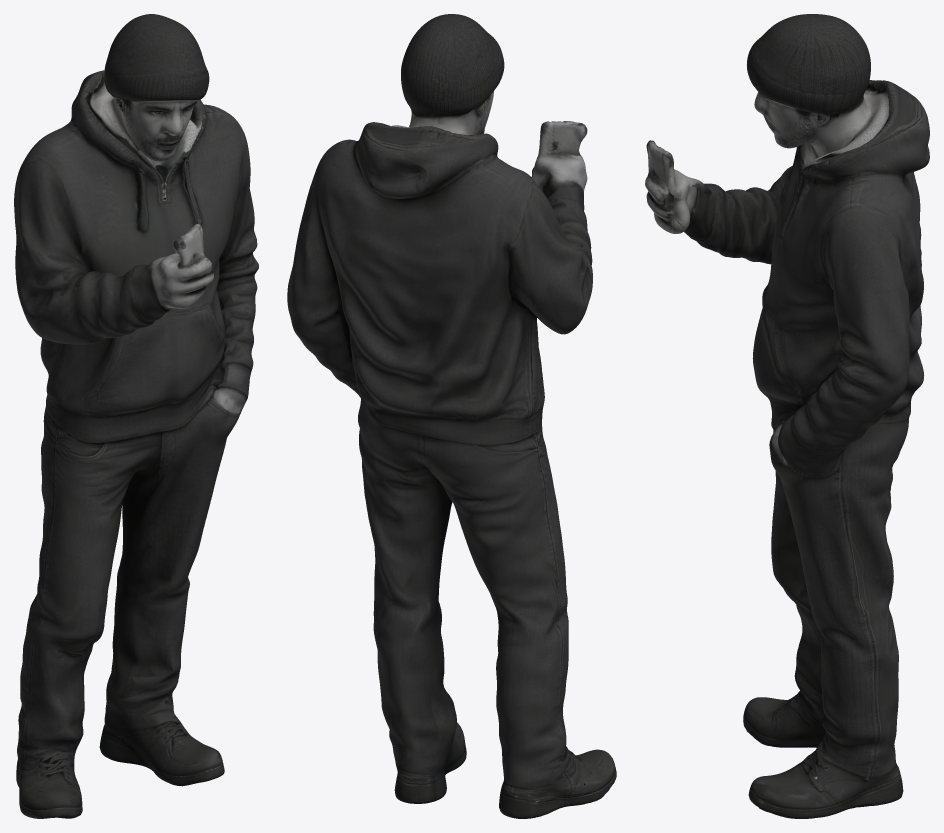
Rendered from sammy.glb.
The picture shows the model from 3 angles, left to right: view 1: azimuth 30°, elevation 25°; view 2: azimuth 150°, elevation 25°; view 3: azimuth 270°, elevation 25°; orthographic projection. The views are drawn at different scales.
Visible parts, largest first — view 1: geometry_0; view 2: geometry_0; view 3: geometry_0.
Part boxes in pixels (x1,y1,x2,y2): geometry_0: (14, 14, 258, 818); geometry_0: (287, 14, 616, 818); geometry_0: (645, 14, 929, 818).
Size of the model in its own units: 0.3777 by 1 by 0.3319.
Materials: 1 (1 with a texture image).
